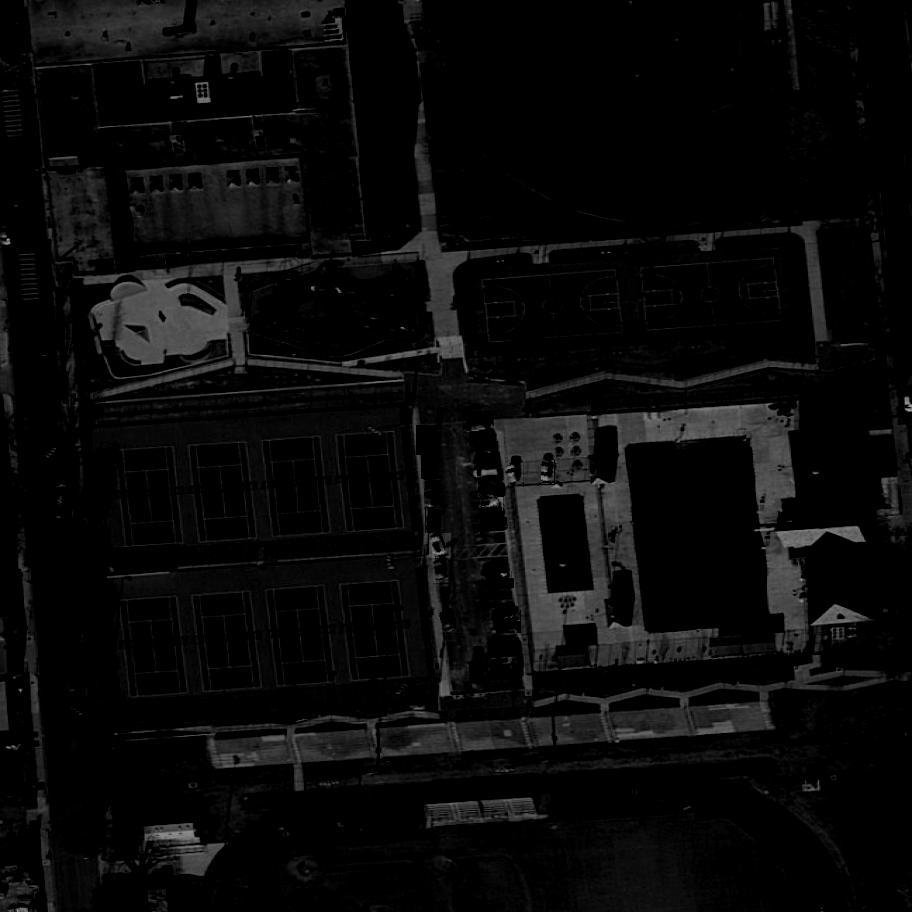small-vehicle: (416, 425, 438, 455), (58, 567, 79, 598), (429, 533, 452, 559), (478, 518, 507, 537), (54, 485, 74, 512), (439, 612, 460, 637), (506, 462, 525, 488), (425, 480, 441, 510), (36, 239, 53, 267), (427, 507, 445, 533), (25, 119, 40, 149), (493, 610, 521, 626), (481, 497, 505, 514), (433, 560, 450, 584), (477, 453, 502, 469), (421, 456, 438, 479), (468, 433, 496, 446), (474, 468, 504, 480), (474, 442, 499, 456), (488, 578, 514, 591), (541, 460, 555, 484), (29, 148, 43, 171), (485, 571, 512, 582), (478, 489, 504, 500), (480, 510, 502, 523), (479, 478, 501, 490), (497, 622, 521, 633), (469, 664, 482, 683), (82, 787, 94, 805), (466, 424, 492, 431)
